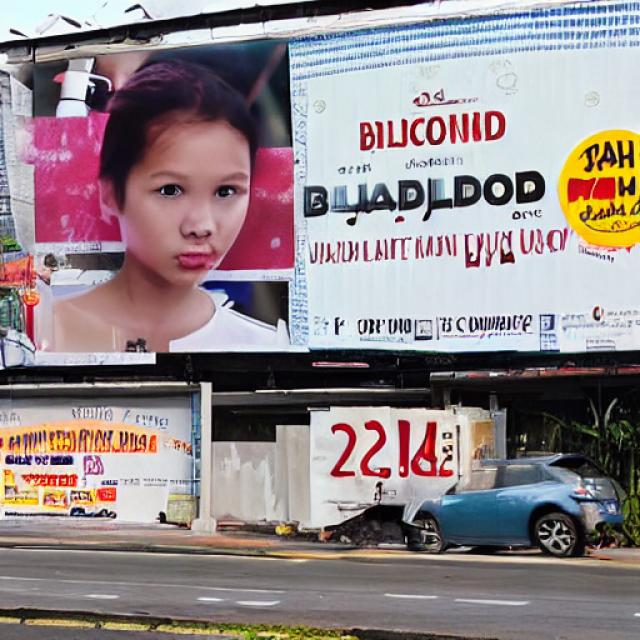Billboard: (0, 4, 640, 374)
